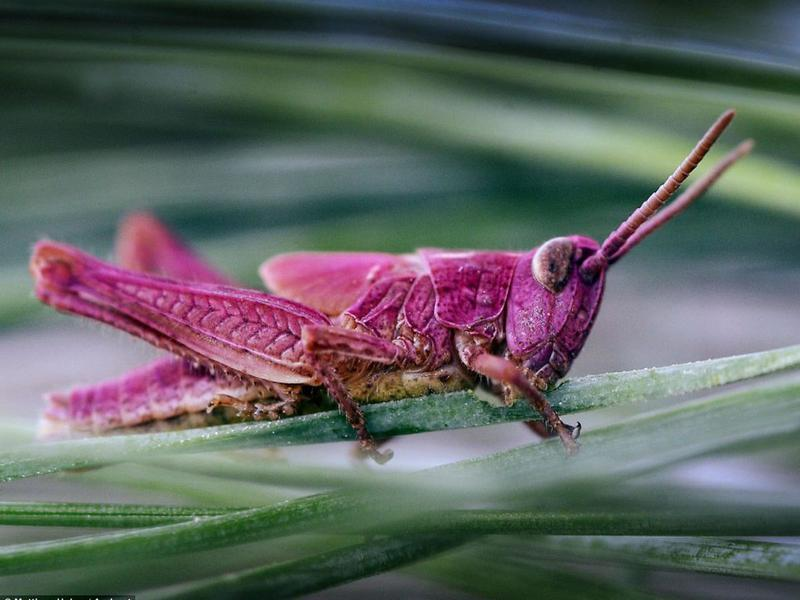Grasshopper: (35, 203, 637, 445)
